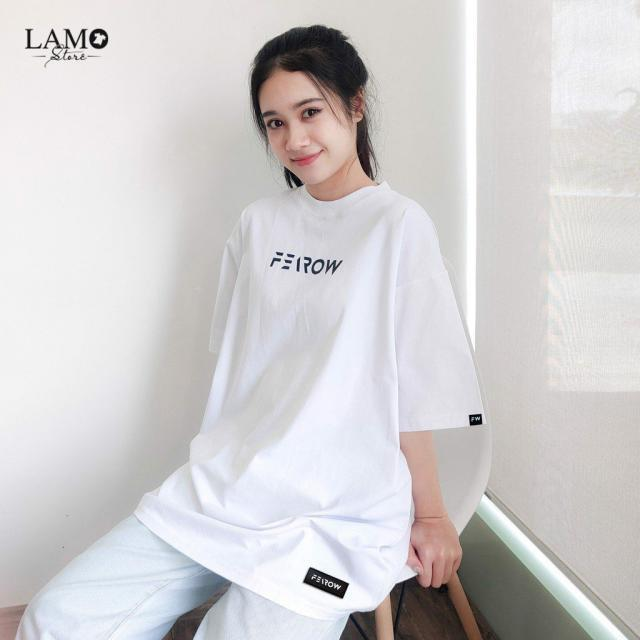Shirt: (125, 175, 491, 623)
